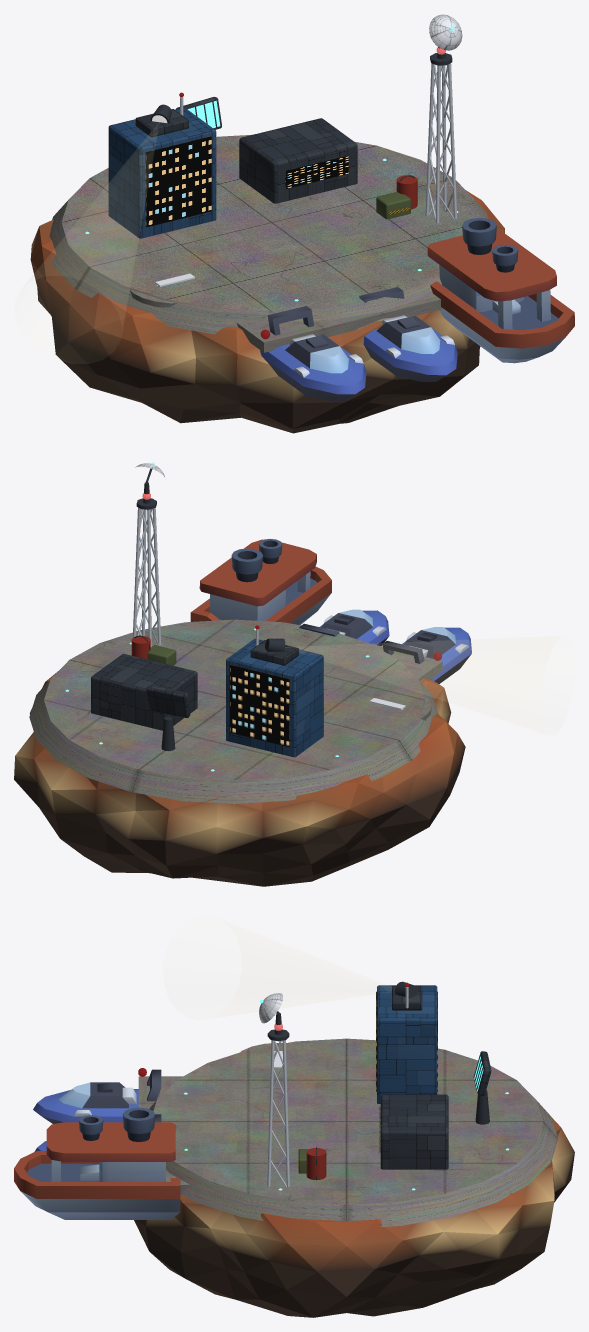
The model's file is coastguard.glb.
3 renders of one model, top to bottom at view 1: azimuth 30°, elevation 25°; view 2: azimuth 150°, elevation 25°; view 3: azimuth 270°, elevation 25°, orthographic. The views are drawn at different scales.
Parts seen in each view (by area): view 1: object 2, object 1, boat-tug-a, boat-speed-a (×2), object 18, object 12, object 13, object 66, anim:rot (×2), object 19, object 15, object 79; view 2: object 2, object 1, boat-tug-a, object 12, object 18, boat-speed-a (×2), object 14, anim:rot, object 66, object 15; view 3: object 2, object 1, boat-tug-a, object 12, object 18, boat-speed-a, anim:rot (×2), object 66, object 76, object 15.
Boxes of the visible parts, bbox=[...] form: object 2: bbox=[49, 134, 487, 334]; object 1: bbox=[30, 190, 504, 433]; boat-tug-a: bbox=[427, 217, 574, 363]; boat-speed-a (×2): bbox=[260, 287, 457, 401]; object 18: bbox=[239, 118, 357, 203]; object 12: bbox=[108, 107, 216, 238]; object 13: bbox=[145, 136, 211, 227]; object 66: bbox=[236, 294, 441, 352]; anim:rot (×2): bbox=[176, 14, 462, 129]; object 19: bbox=[285, 155, 348, 188]; object 15: bbox=[135, 109, 188, 137]; object 79: bbox=[376, 192, 410, 219]; object 2: bbox=[29, 619, 438, 803]; object 1: bbox=[14, 671, 465, 886]; boat-tug-a: bbox=[190, 538, 331, 625]; object 12: bbox=[226, 638, 323, 757]; object 18: bbox=[91, 653, 197, 730]; boat-speed-a (×2): bbox=[299, 609, 471, 683]; object 14: bbox=[230, 664, 289, 747]; anim:rot: bbox=[146, 685, 190, 717]; object 66: bbox=[219, 619, 442, 680]; object 15: bbox=[250, 640, 298, 665]; object 2: bbox=[149, 1038, 558, 1226]; object 1: bbox=[134, 1117, 574, 1317]; boat-tug-a: bbox=[14, 1107, 180, 1219]; object 12: bbox=[377, 985, 437, 1103]; object 18: bbox=[380, 1094, 448, 1169]; boat-speed-a: bbox=[33, 1069, 161, 1123]; anim:rot (×2): bbox=[259, 993, 491, 1096]; object 66: bbox=[138, 1076, 189, 1194]; object 76: bbox=[306, 1148, 326, 1179]; object 15: bbox=[392, 985, 422, 1010].
Bounding box in the file's own units: 7.65 × 4.73 × 7.42.
Materials: 21 (9 with a texture image).
